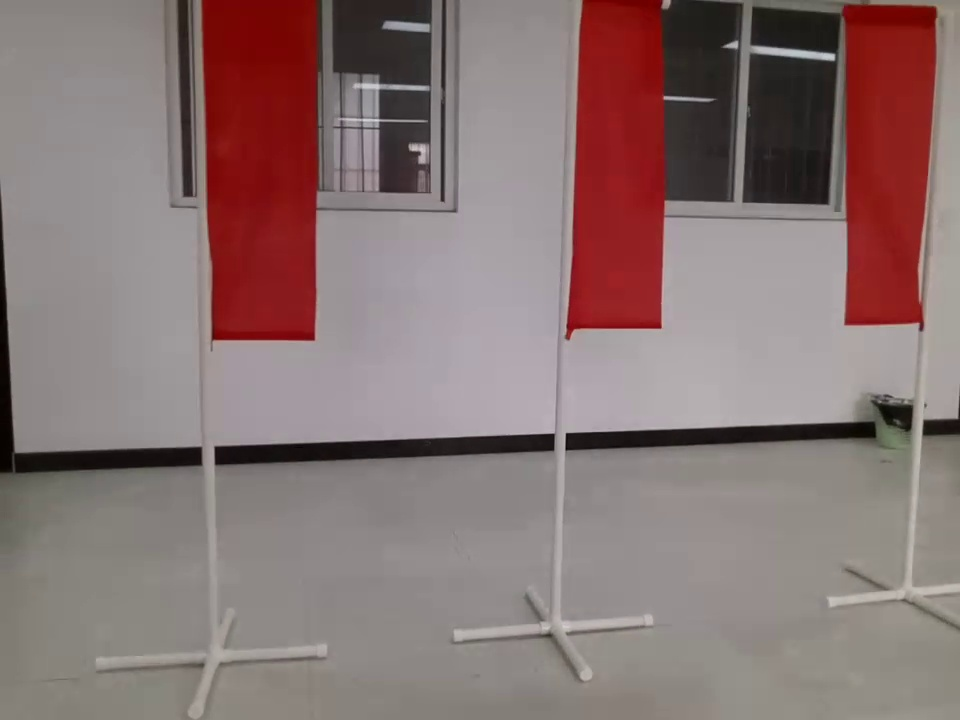qi: (189, 1, 326, 347), (556, 1, 669, 345), (829, 1, 941, 341)
